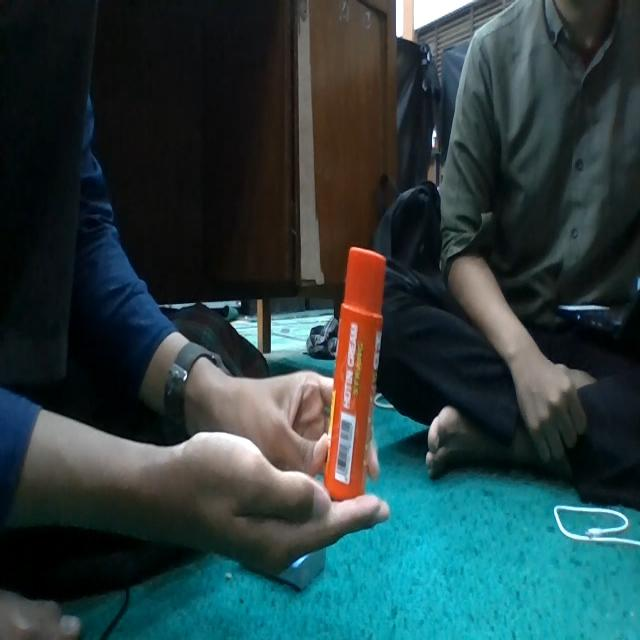Boncabe: (324, 247, 386, 500)
Powerbank: (276, 548, 326, 590)
